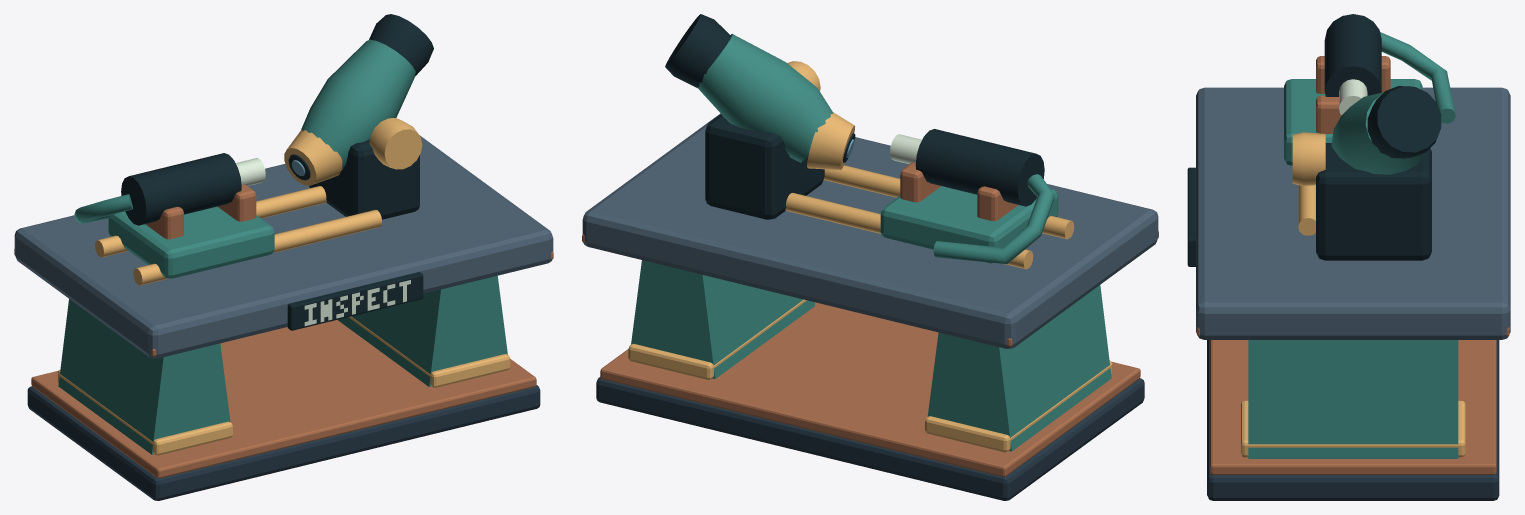
3 views of the same model, side by side, from view 1: azimuth 30°, elevation 25°; view 2: azimuth 150°, elevation 25°; view 3: azimuth 270°, elevation 25° (orthographic). The views are drawn at different scales.
Parts seen in each view (by area): view 1: PR043 enamel and hardware; view 2: PR043 enamel and hardware; view 3: PR043 enamel and hardware.
Boxes of the visible parts, box(x1,y1,x2,y2) form: PR043 enamel and hardware: box(14, 14, 553, 500); PR043 enamel and hardware: box(582, 14, 1158, 500); PR043 enamel and hardware: box(1187, 14, 1510, 500).
Bounding box in the file's own units: 1.36 × 1.1 × 0.8356.
